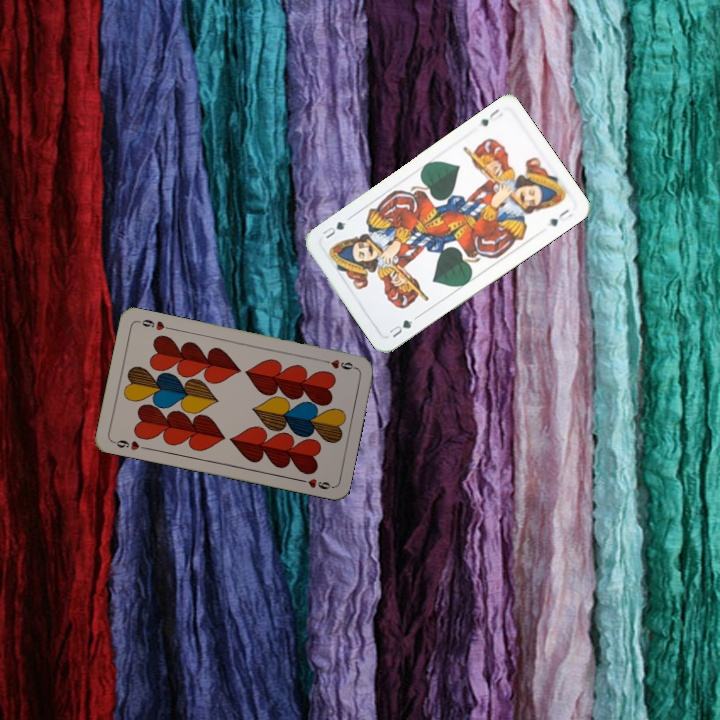GU: (385, 316, 415, 340), (476, 105, 505, 129)
H9: (318, 355, 359, 372), (109, 436, 149, 453)
